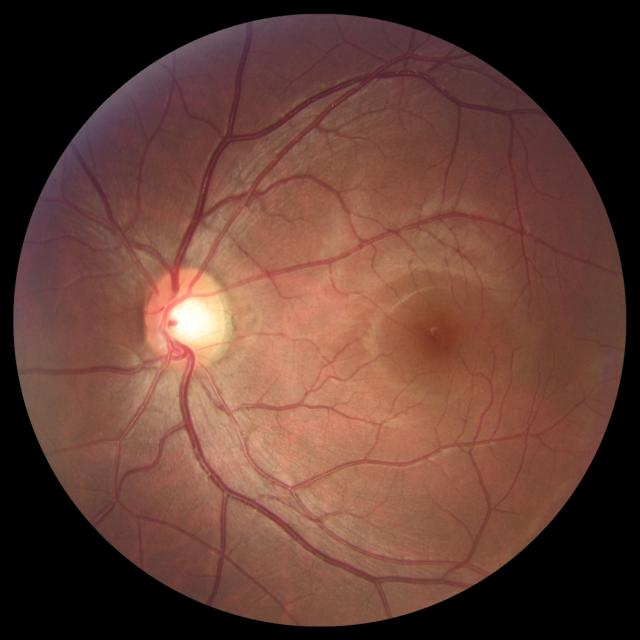OC: (163, 294, 210, 346)
OD: (147, 267, 231, 368)
